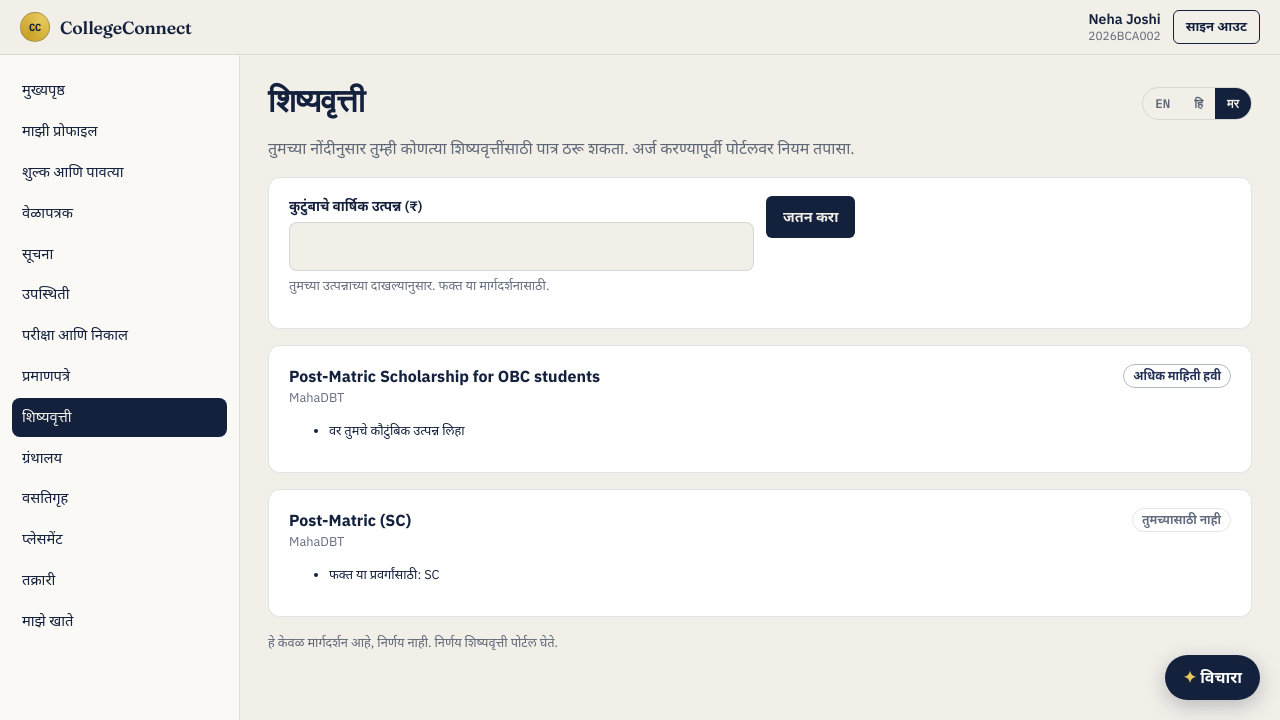
Test: scholarships › a student sees why, in Marathi, and declares the family income
This screenshot has width=1280, height=720.
Check: the text "अधिक माहिती हवी" is shown, box [1123,364,1231,388]
Check: the list item "वर तुमचे कौटुंबिक उत्पन्न लिहा" is shown, box [329,422,465,439]
Type "120000" into the number field labelled "कुटुंबाचे वार्षिक उत्पन्न (₹)" at (522, 246), box [289,222,754,271]
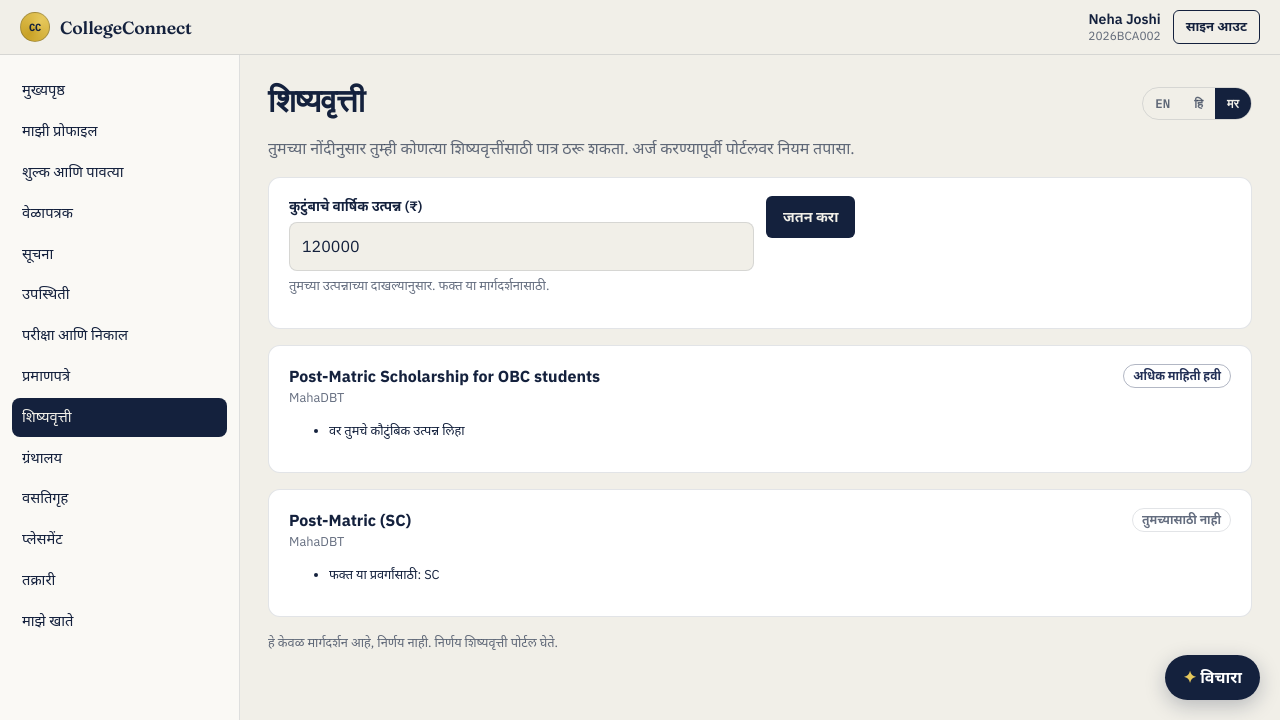
Click the button "जतन करा" at (811, 217), box [766,196,855,238]
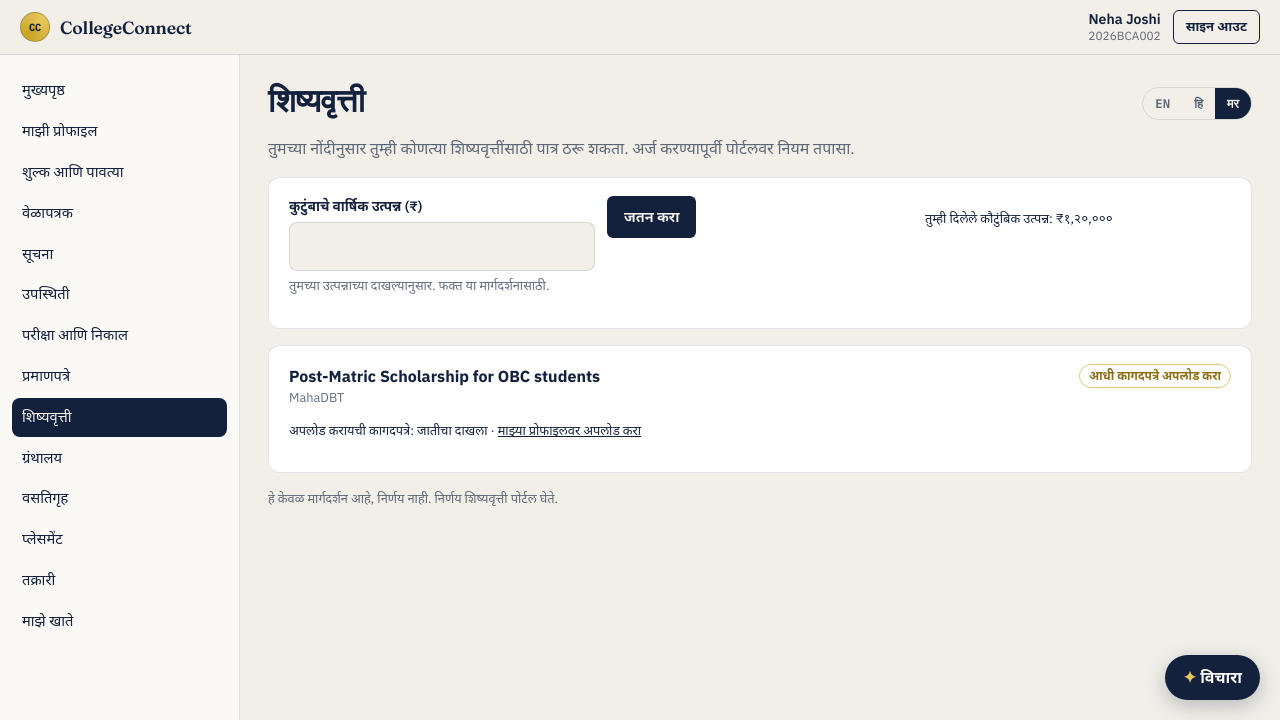
Check: the text "जातीचा दाखला" is shown, box [417,422,488,439]
